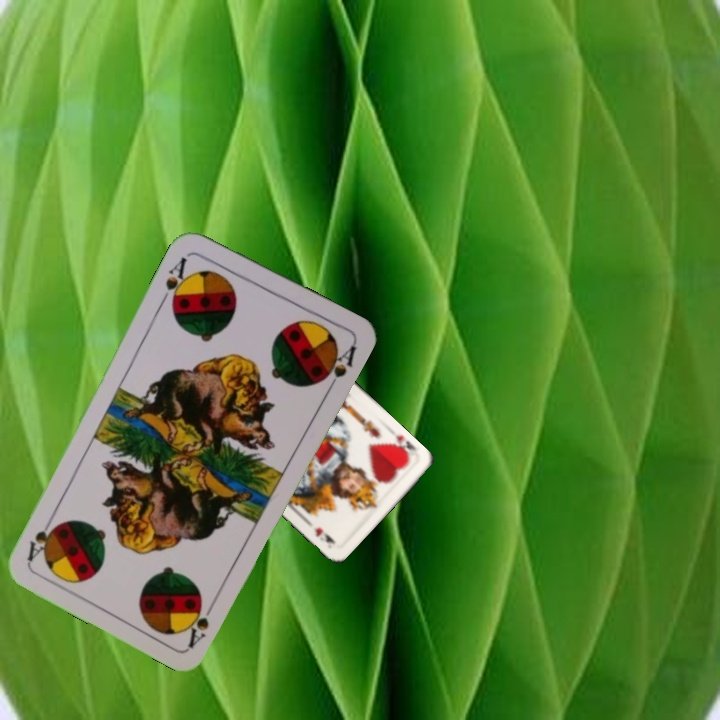HK: (385, 431, 419, 464)
SA: (181, 595, 219, 650), (157, 252, 193, 310)
